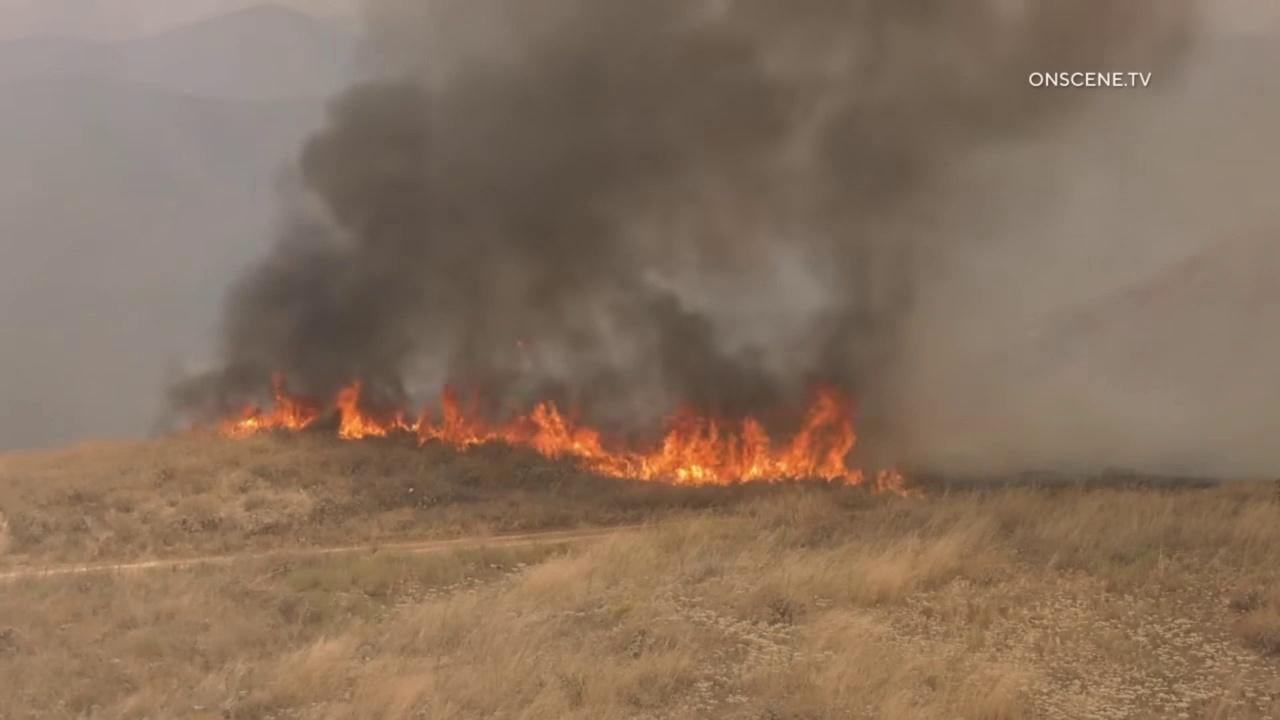fire: (220, 370, 912, 498)
smoke: (0, 0, 1280, 482)
